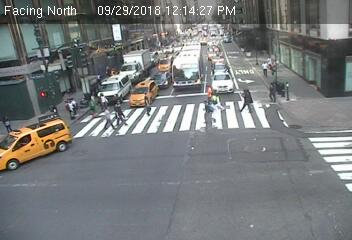car: (1, 119, 70, 170), (173, 44, 202, 90), (119, 50, 149, 78), (97, 75, 131, 99), (129, 79, 156, 106), (210, 71, 234, 94), (151, 72, 171, 88), (211, 62, 230, 75), (158, 58, 170, 73), (206, 47, 219, 60), (148, 51, 157, 65), (162, 43, 173, 54), (223, 35, 231, 44)
